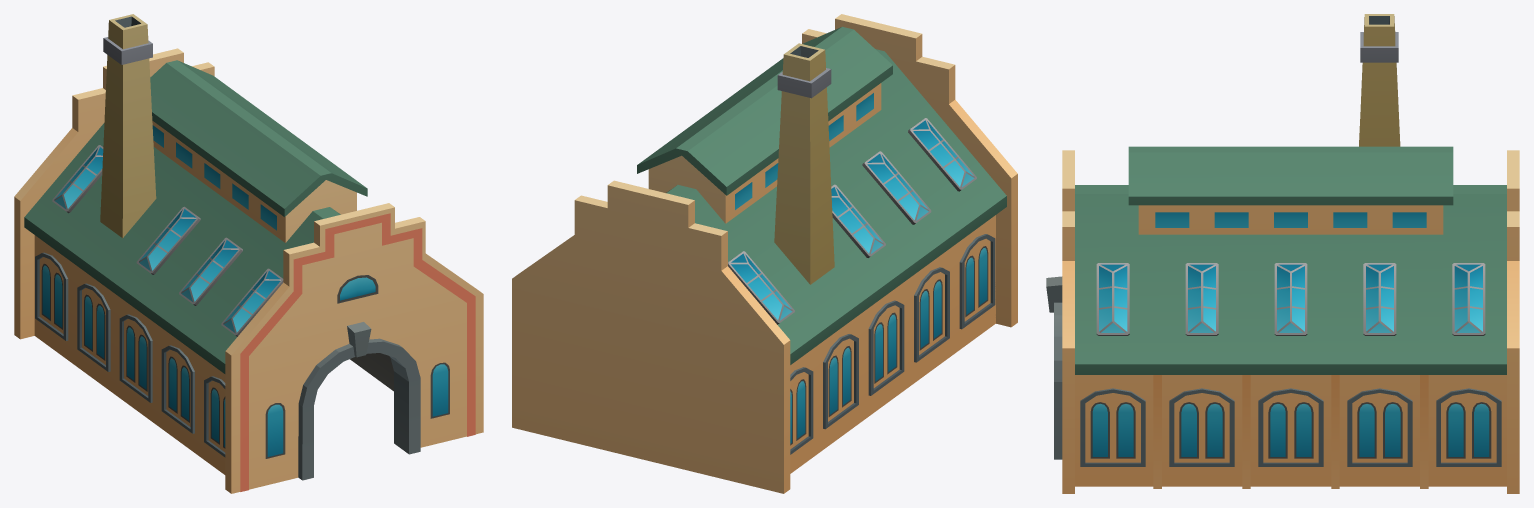
File: Railway_Depot_B.fbx
3 views of the same model, side by side, from view 1: azimuth 30°, elevation 25°; view 2: azimuth 150°, elevation 25°; view 3: azimuth 270°, elevation 25° (orthographic). The views are drawn at different scales.
Parts seen in each view (by area): view 1: Railway_Depot_B; view 2: Railway_Depot_B; view 3: Railway_Depot_B.
Part boxes in pixels (bbox=[...]): Railway_Depot_B: bbox=[14, 14, 483, 493]; Railway_Depot_B: bbox=[512, 14, 1017, 493]; Railway_Depot_B: bbox=[1046, 14, 1519, 493].
Bounding box in the file's own units: 1304 × 1729 × 2013.
